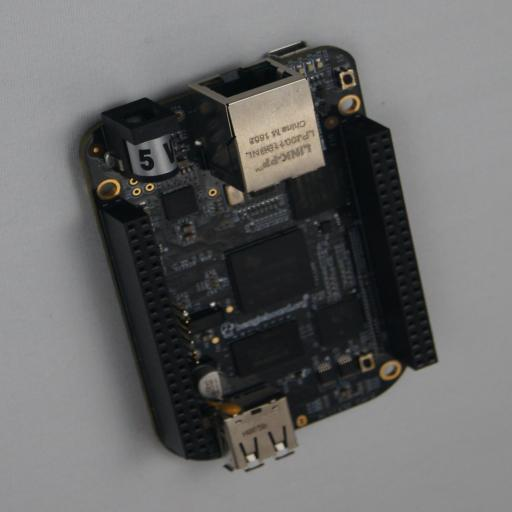Beaglebone Black: (70, 41, 438, 471)
